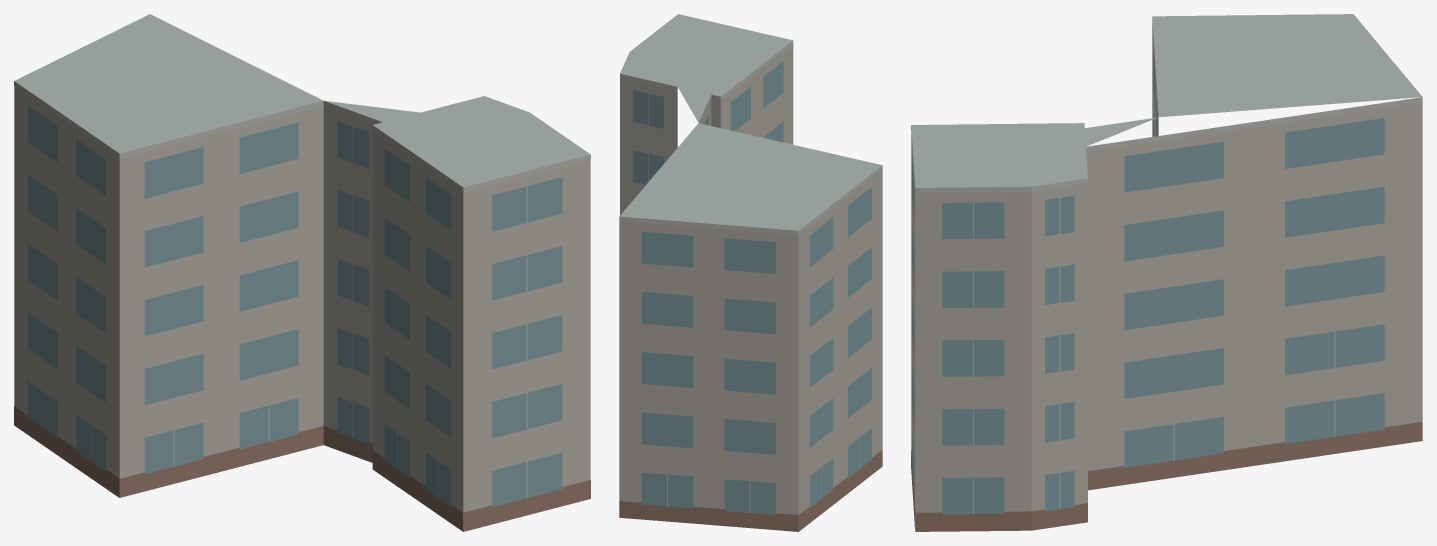
File: survey-upis-32542243.glb
3 renders of one model, left to right at view 1: azimuth 30°, elevation 25°; view 2: azimuth 150°, elevation 25°; view 3: azimuth 270°, elevation 25°, orthographic. The views are drawn at different scales.
Parts seen in each view (by area): view 1: survey-upis-32542243.tmp; view 2: survey-upis-32542243.tmp; view 3: survey-upis-32542243.tmp.
Part boxes in pixels (x1=…): survey-upis-32542243.tmp: x1=14, y1=14, x2=590, y2=531; survey-upis-32542243.tmp: x1=619, y1=14, x2=882, y2=531; survey-upis-32542243.tmp: x1=911, y1=14, x2=1422, y2=531.
Size of the model in its own units: 17.62 by 16.23 by 21.89.
